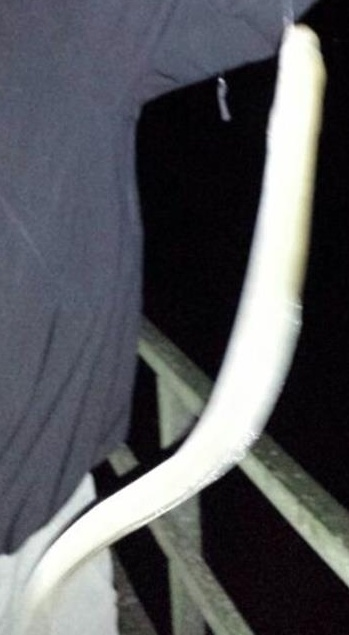Anguilla anguilla: (20, 20, 329, 615)
